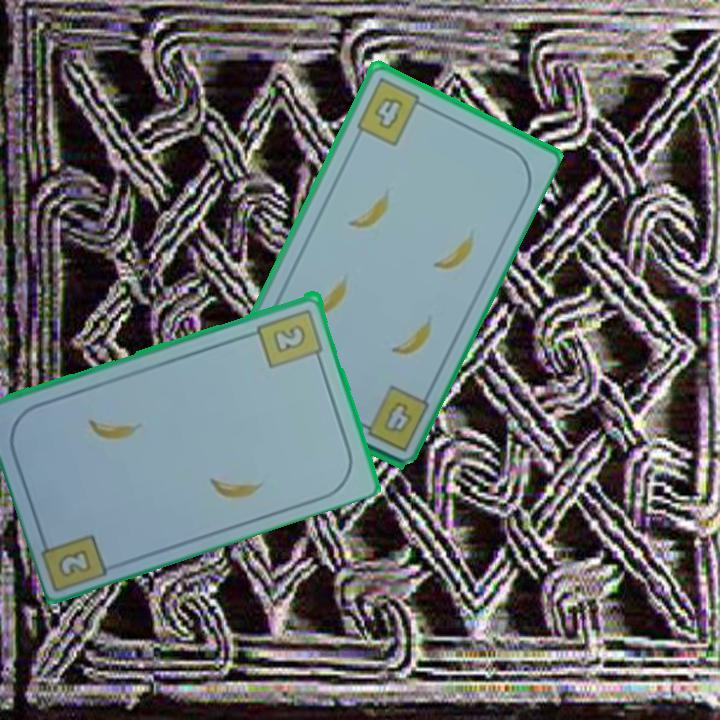2b: (254, 305, 327, 371), (54, 545, 95, 577)
4b: (352, 74, 431, 149), (351, 382, 432, 455)
